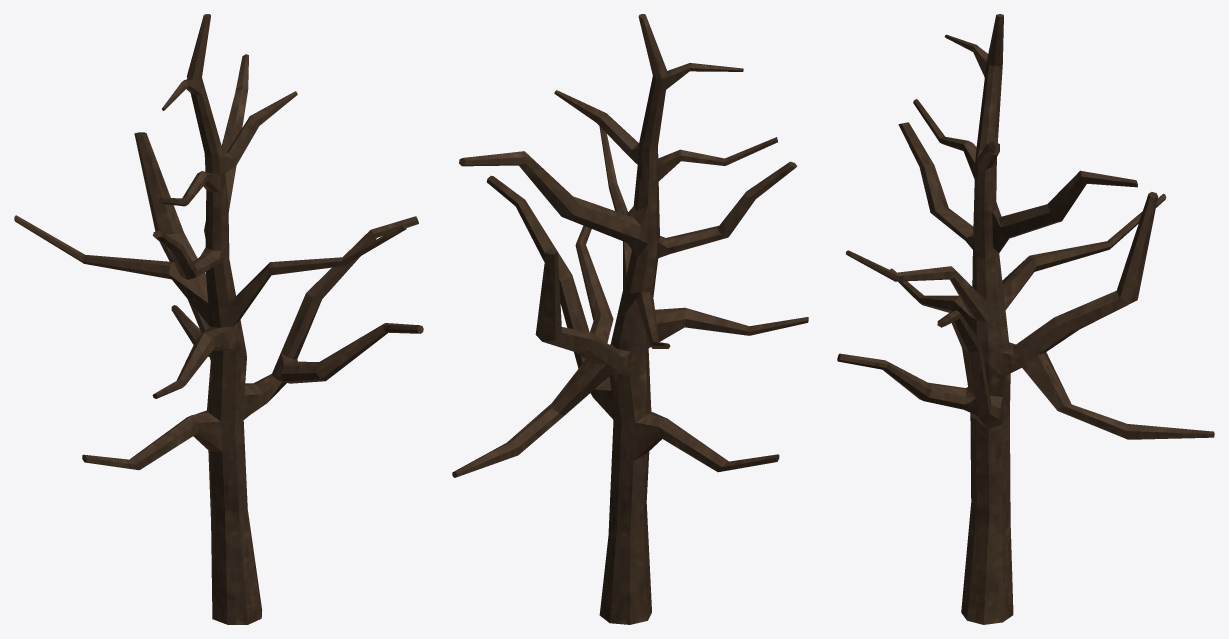
File: Tree6.fbx
The picture shows the model from 3 angles, left to right: view 1: azimuth 30°, elevation 25°; view 2: azimuth 150°, elevation 25°; view 3: azimuth 270°, elevation 25°; orthographic projection. The views are drawn at different scales.
Visible parts, largest first — view 1: tree_06; view 2: tree_06; view 3: tree_06.
Boxes of the visible parts, left/top/right/bottom form: tree_06: left=14, top=14, right=423, bottom=624; tree_06: left=452, top=14, right=808, bottom=624; tree_06: left=837, top=14, right=1214, bottom=624.
Size of the model in its own units: 4.02 by 7.45 by 4.33.
